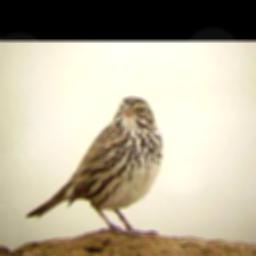Sparrow: (24, 95, 164, 238)
